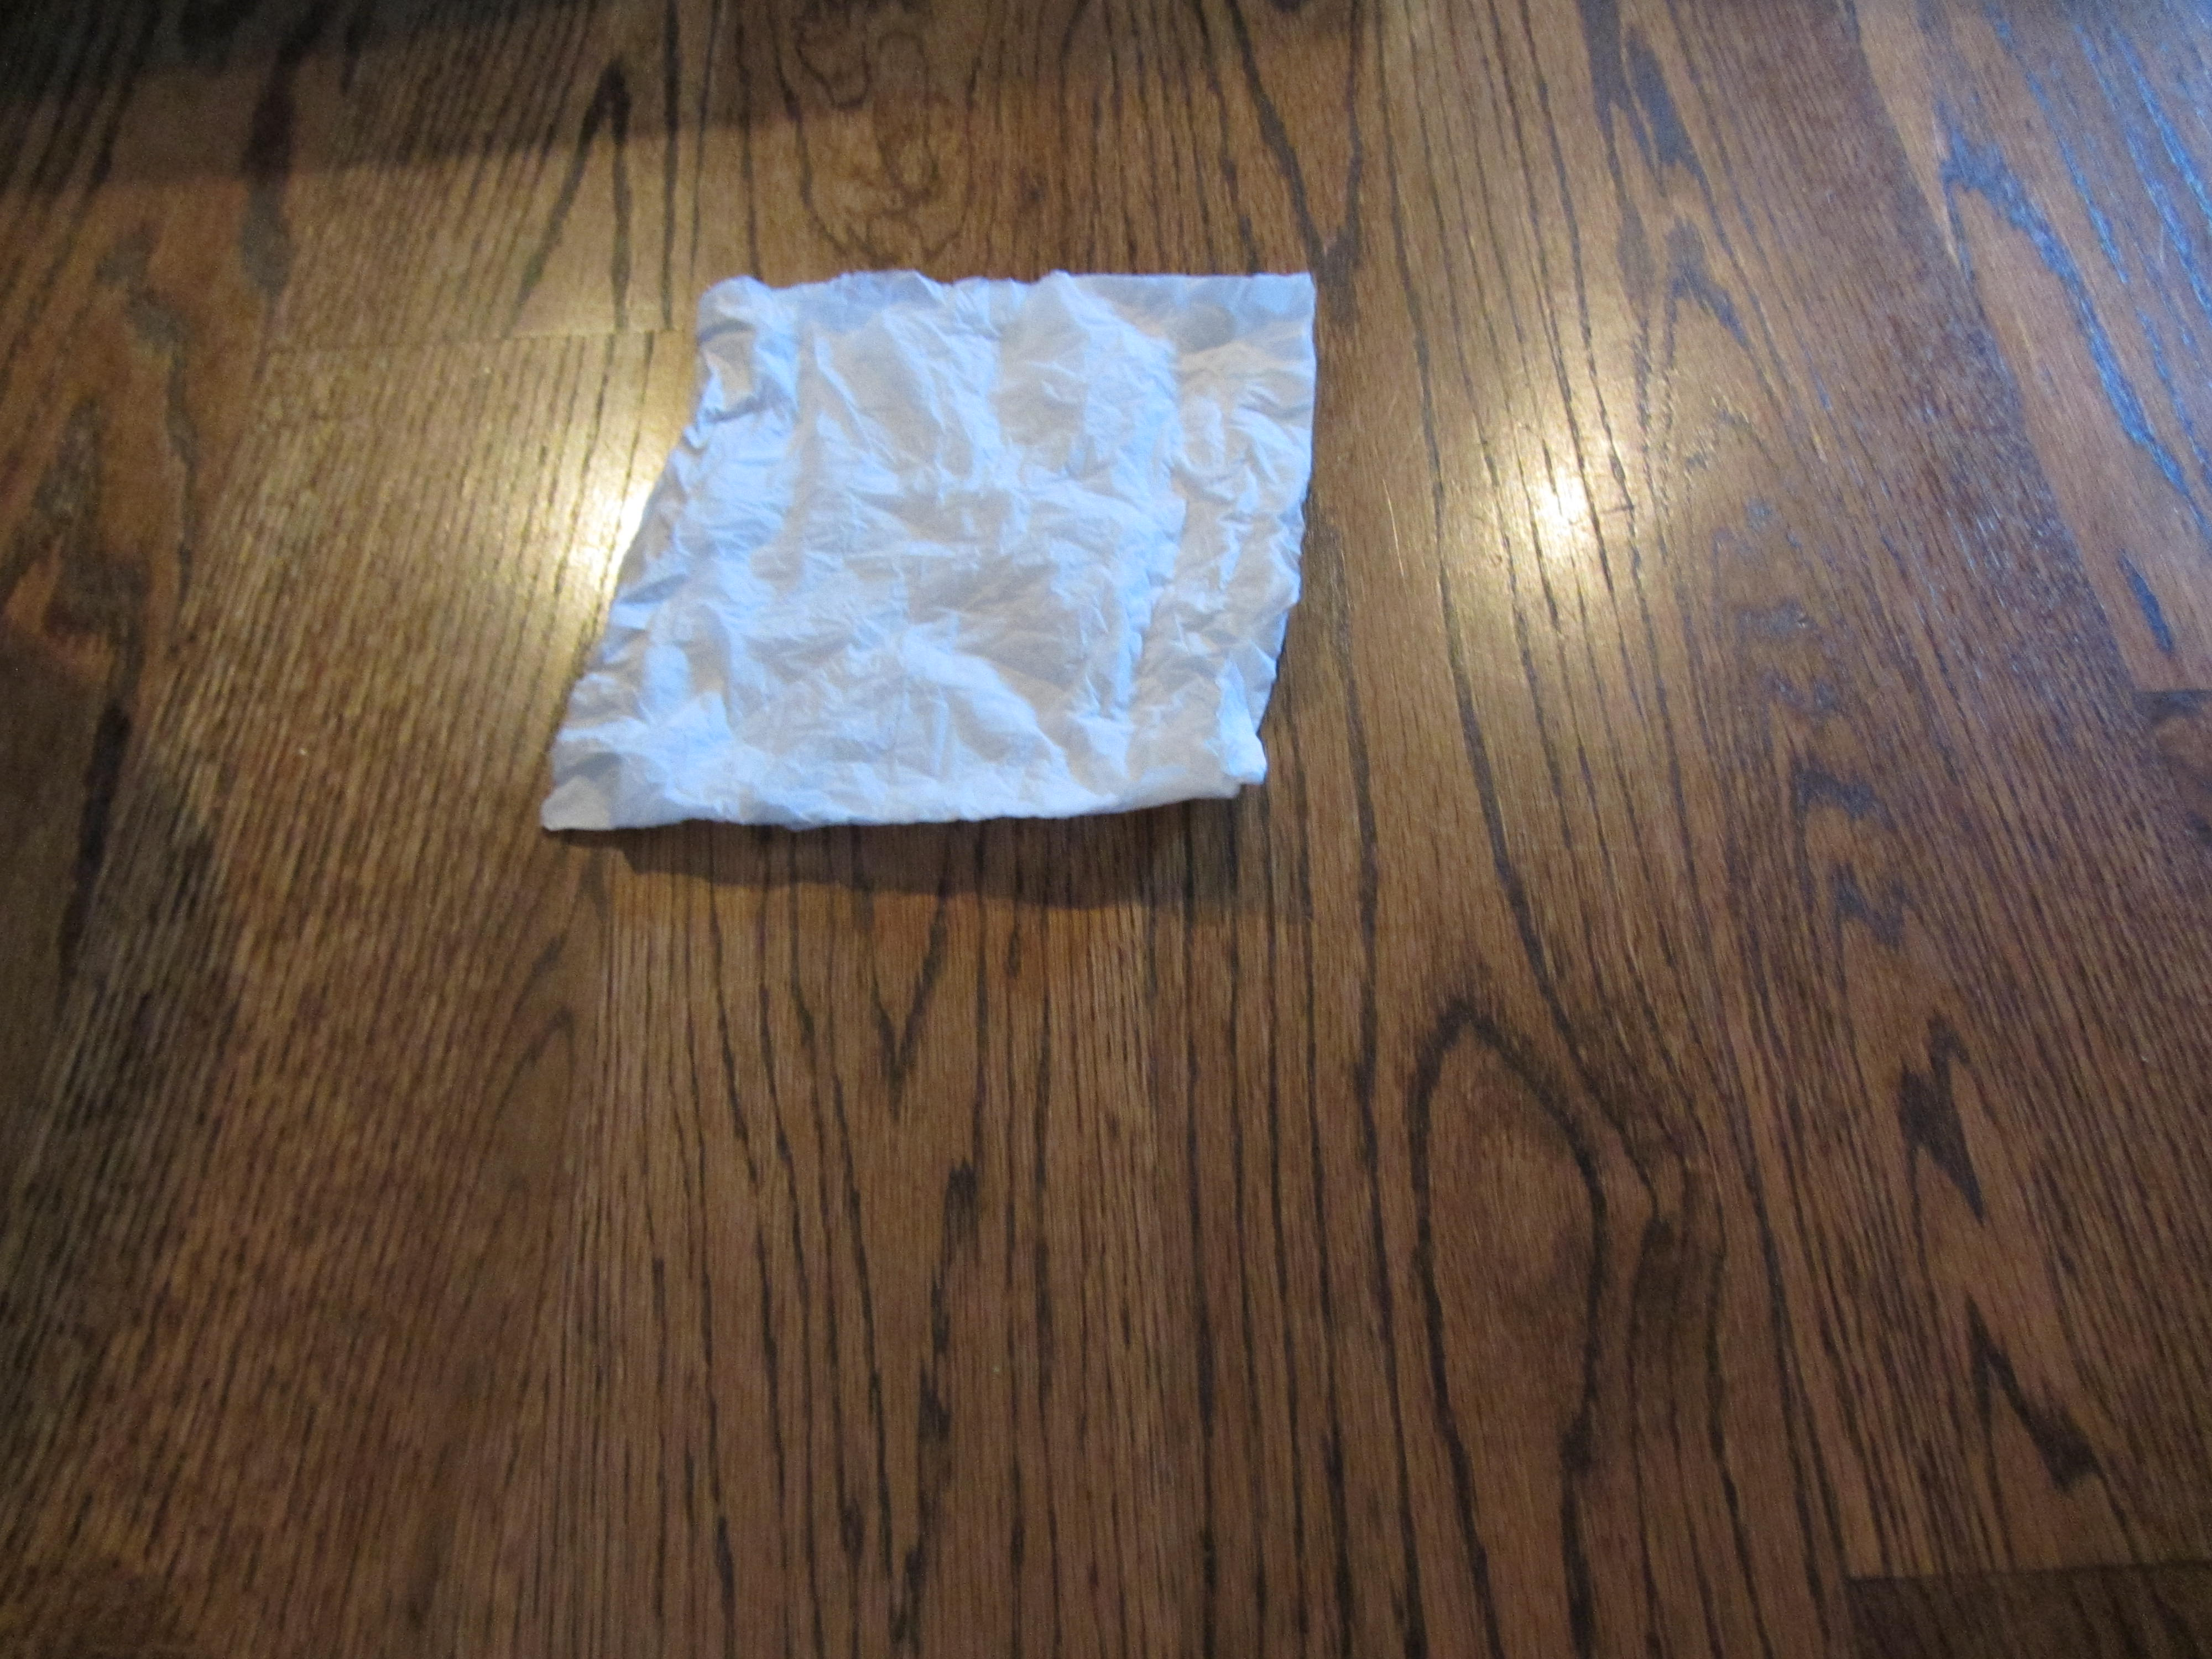tissue: (526, 253, 1317, 861)
